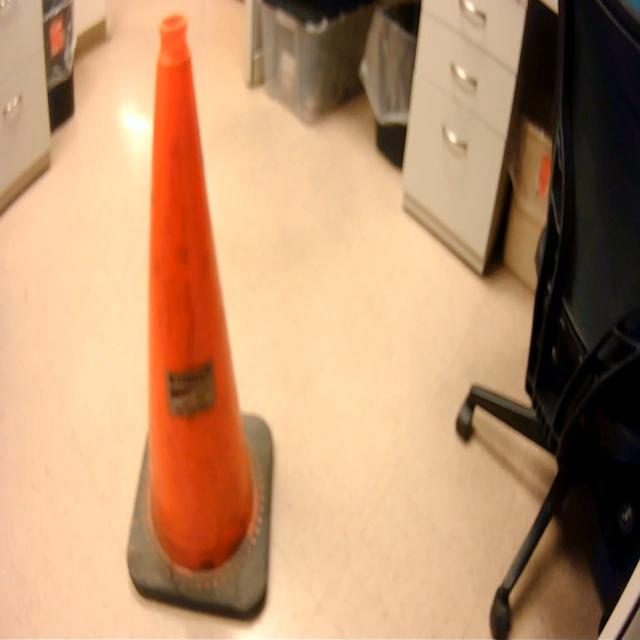traffic cone: (124, 10, 279, 629)
